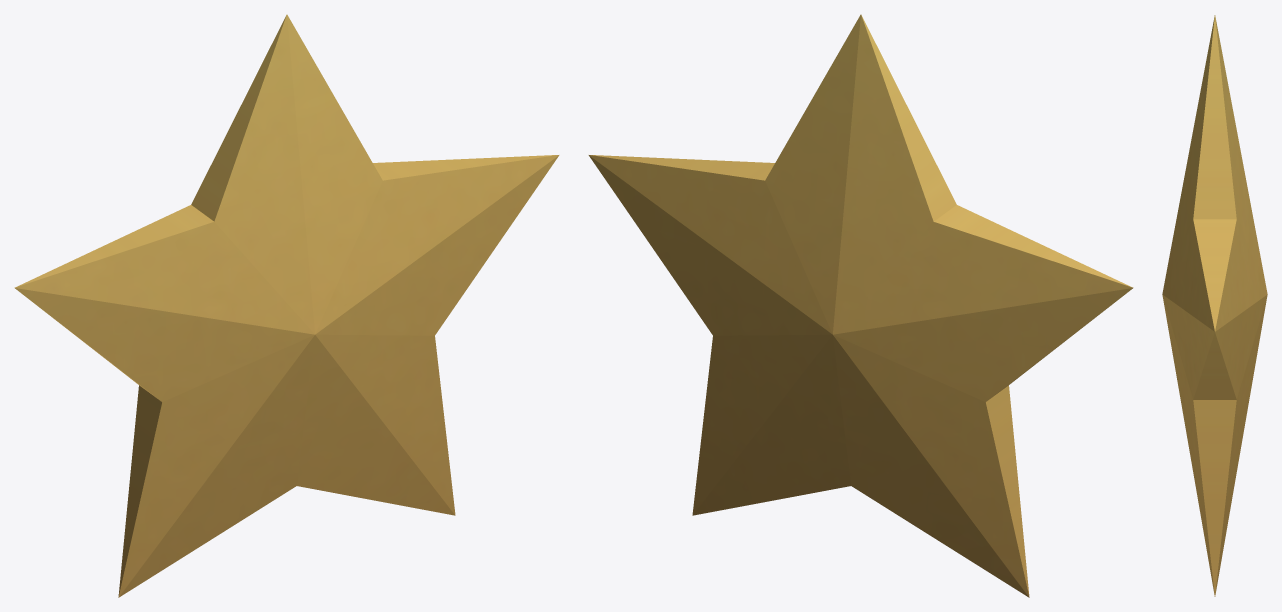
File: Star.obj
The picture shows the model from 3 angles, left to right: view 1: azimuth 30°, elevation 25°; view 2: azimuth 150°, elevation 25°; view 3: azimuth 270°, elevation 25°; orthographic projection. The views are drawn at different scales.
Visible parts, largest first — view 1: Star; view 2: Star; view 3: Star.
Part boxes in pixels (<box>): Star: <box>14,14,559,597</box>; Star: <box>588,14,1133,597</box>; Star: <box>1162,15,1267,596</box>.
Bounding box in the file's own units: 0.6692 × 0.6365 × 0.1198.
